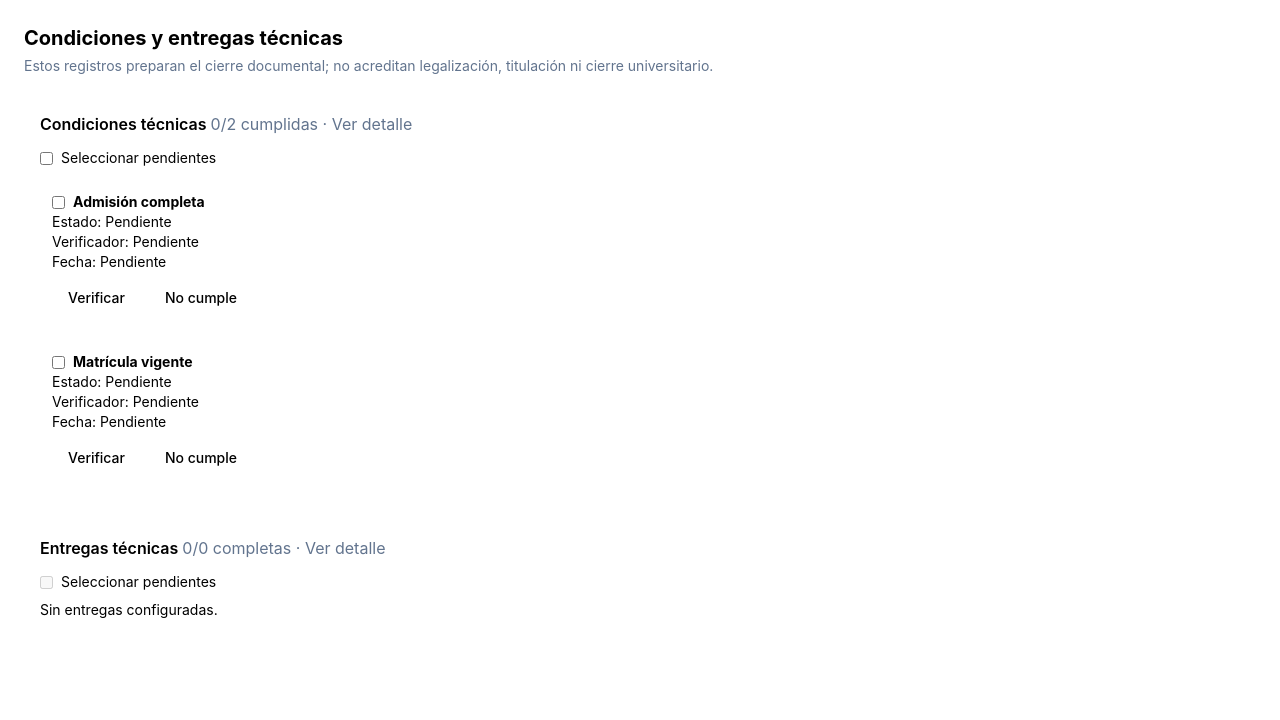
Test: ClosureRequirements › mantiene visible el error backend dentro de la condición
The width and height of the screenshot is (1280, 720).
Expected: the text "Admisión completa" is shown, [73,192,205,212]
Click the button "No cumple" below "Admisión completa" at (201, 298), box [149,280,253,316]
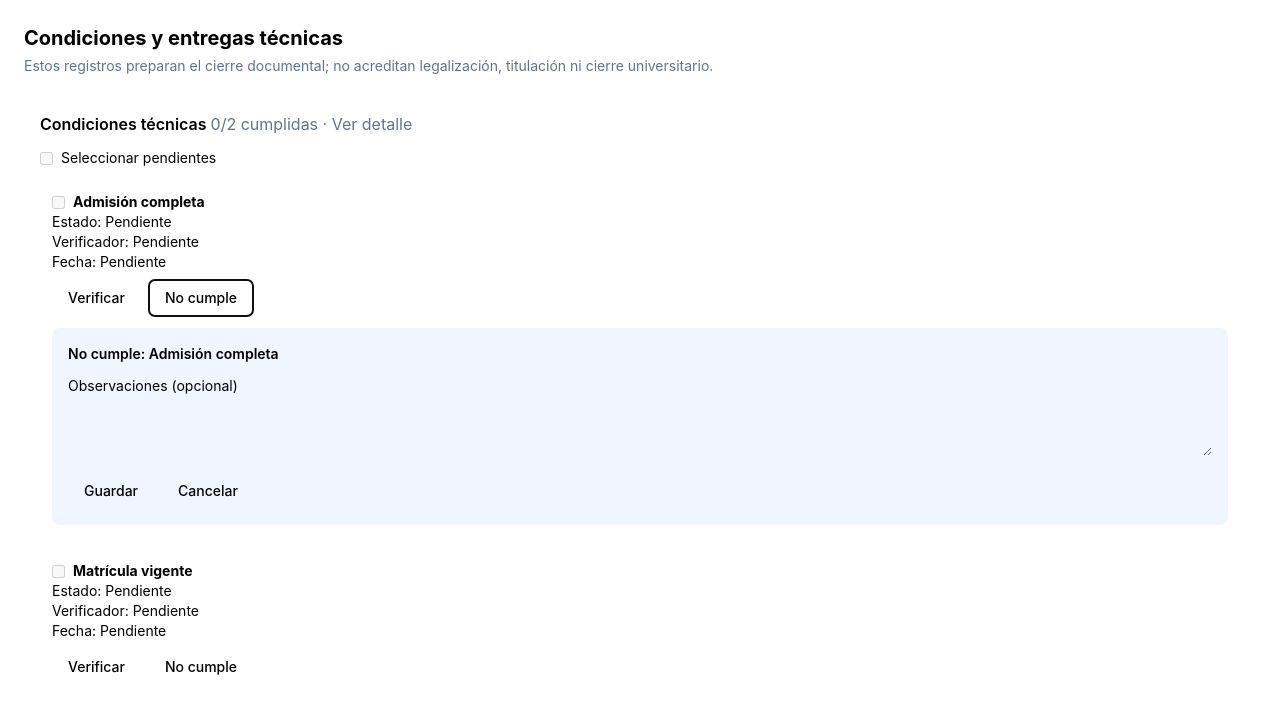
Click the button "Guardar" at (111, 491), box [68,473,154,509]
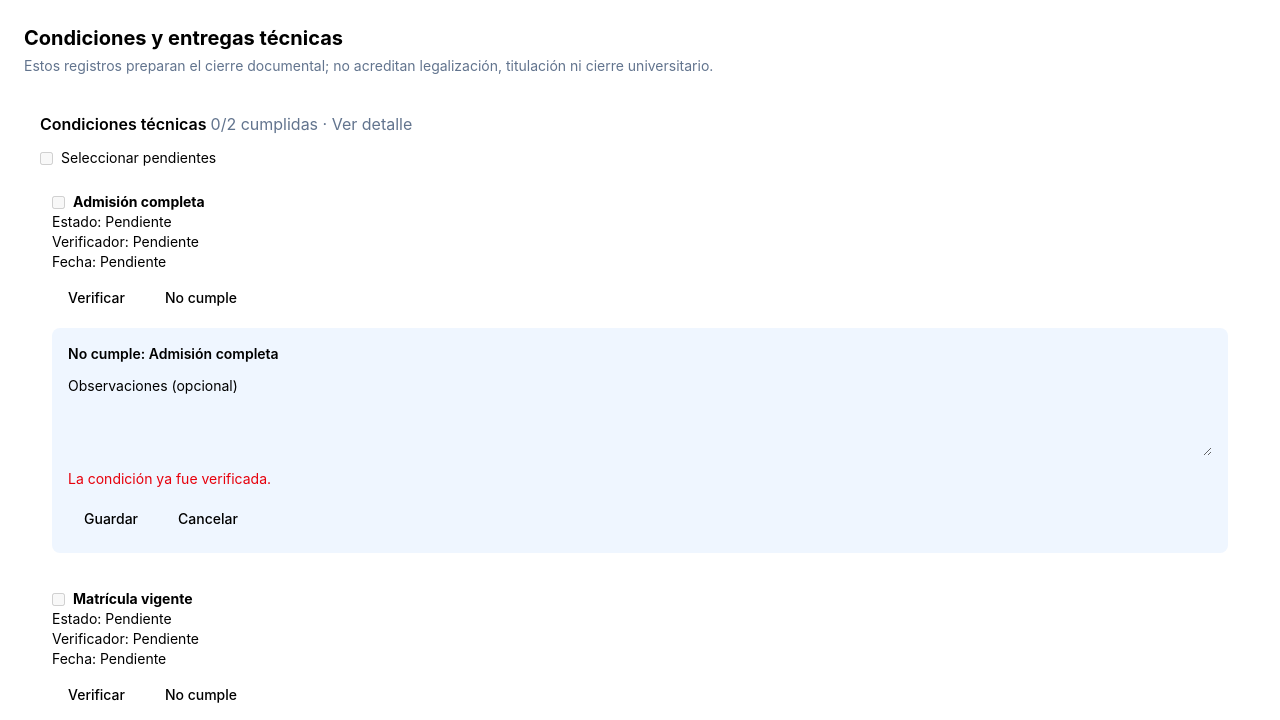
Expected: the form is shown, [52,328,1228,553]
Expected: the message reads "La condición ya fue verificada.", [68,470,271,487]
